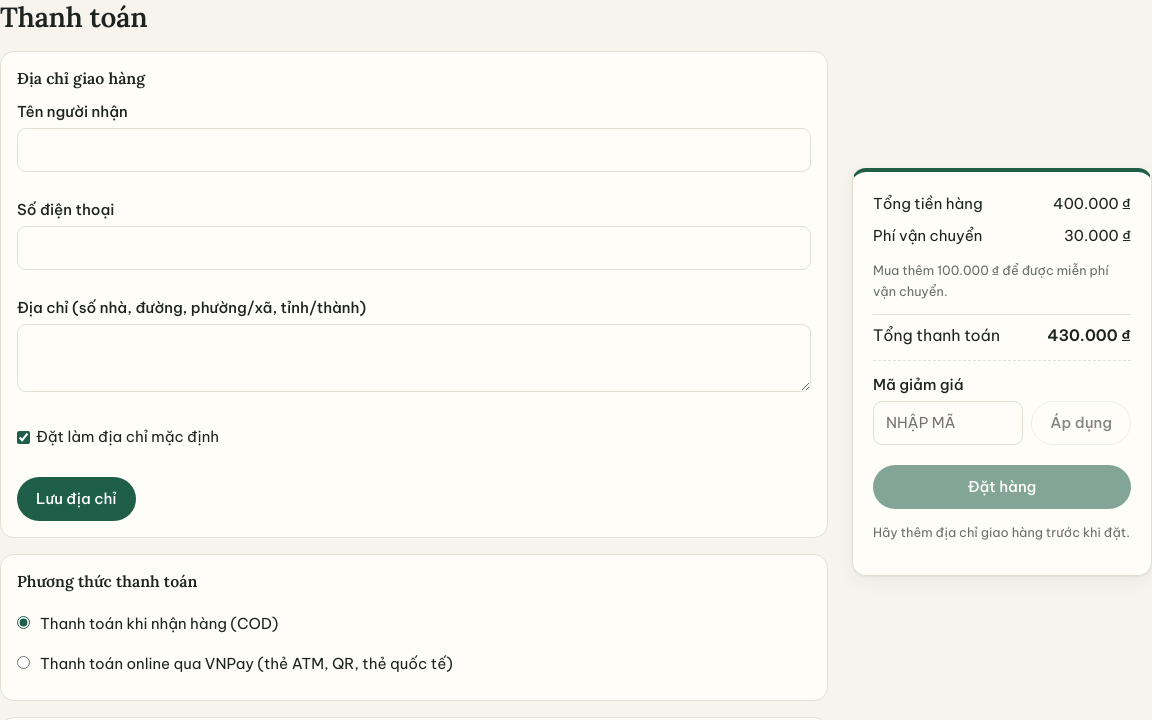
Test: CheckoutPage › chưa có địa chỉ thì thêm địa chỉ mới rồi mới đặt được
Expected: the text "Hãy thêm địa chỉ giao hàng trước khi đặt." is shown, [873,522,1131,543]
Expected: the button "Đặt hàng" is disabled, [873,466,1131,510]
Type "Mạnh" into the field labelled "Tên người nhận".
click(414, 150); type("Mạnh")  # box [17,128,811,172]
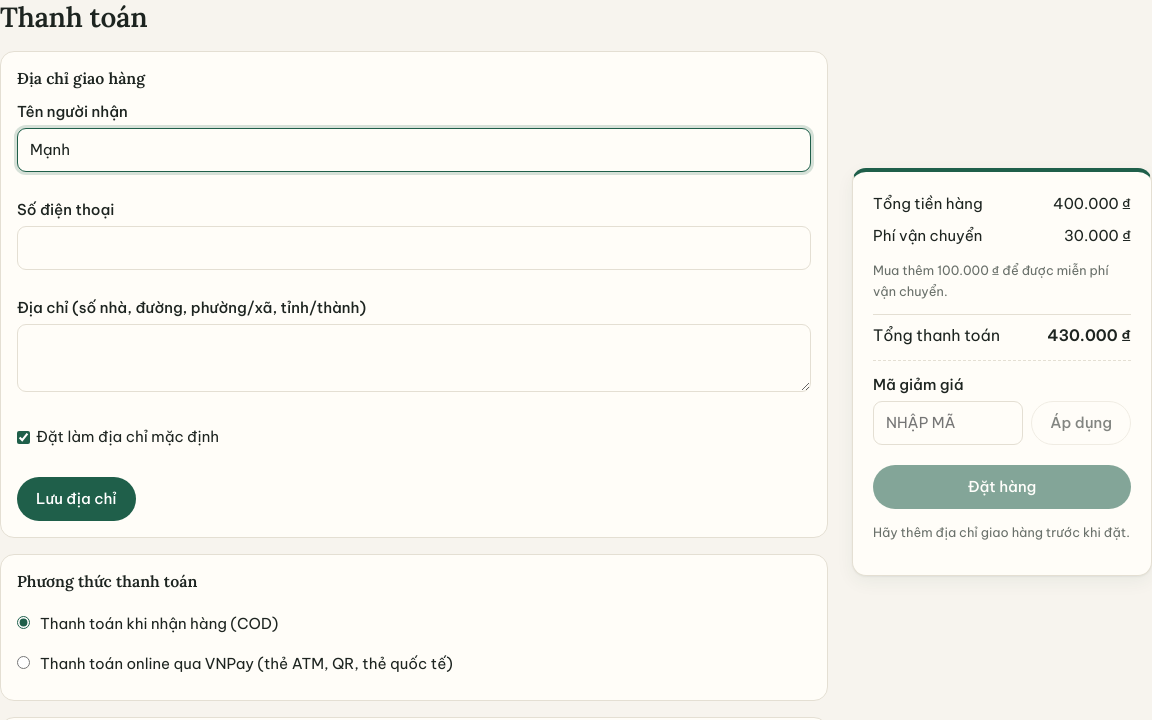
Type "090 123.4567" into the field labelled "Số điện thoại".
click(414, 248); type("090 123.4567")  # box [17,226,811,270]
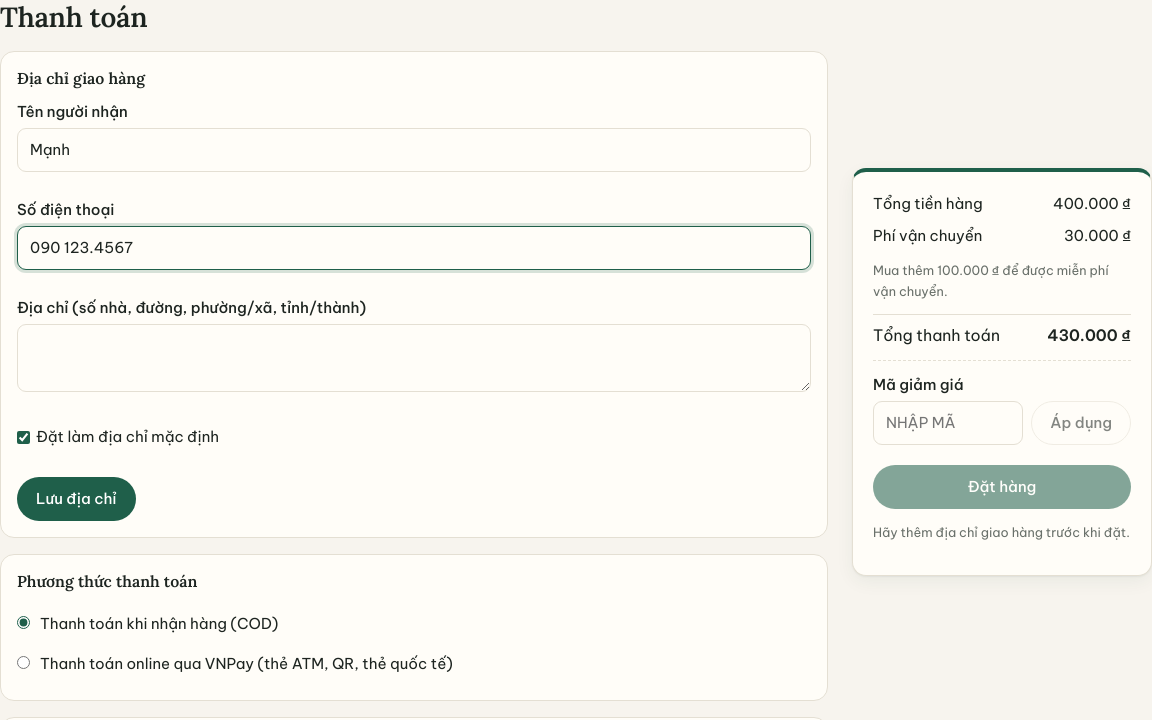
Type "Thủ Đức" into the text box labelled "Địa chỉ (số nhà, đường, phường/xã, tỉnh/thành)".
click(414, 358); type("Thủ Đức")  # box [17,324,811,392]
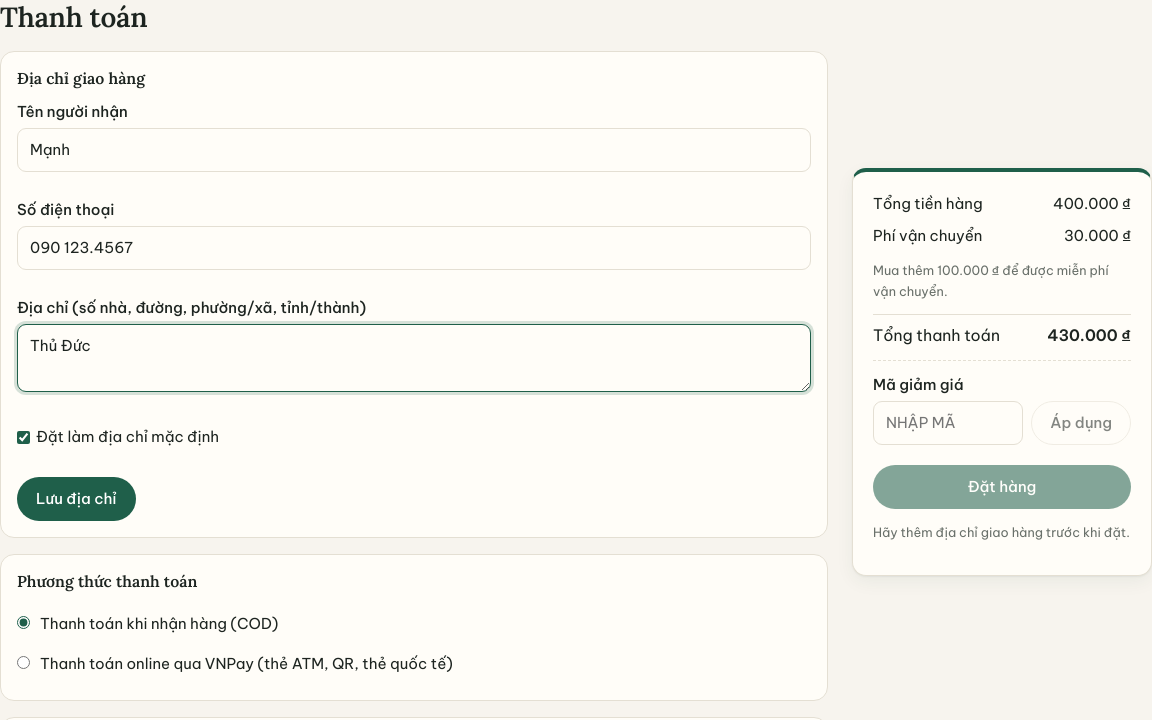
Click the button "Lưu địa chỉ".
click(76, 499)  # box [17,477,136,521]
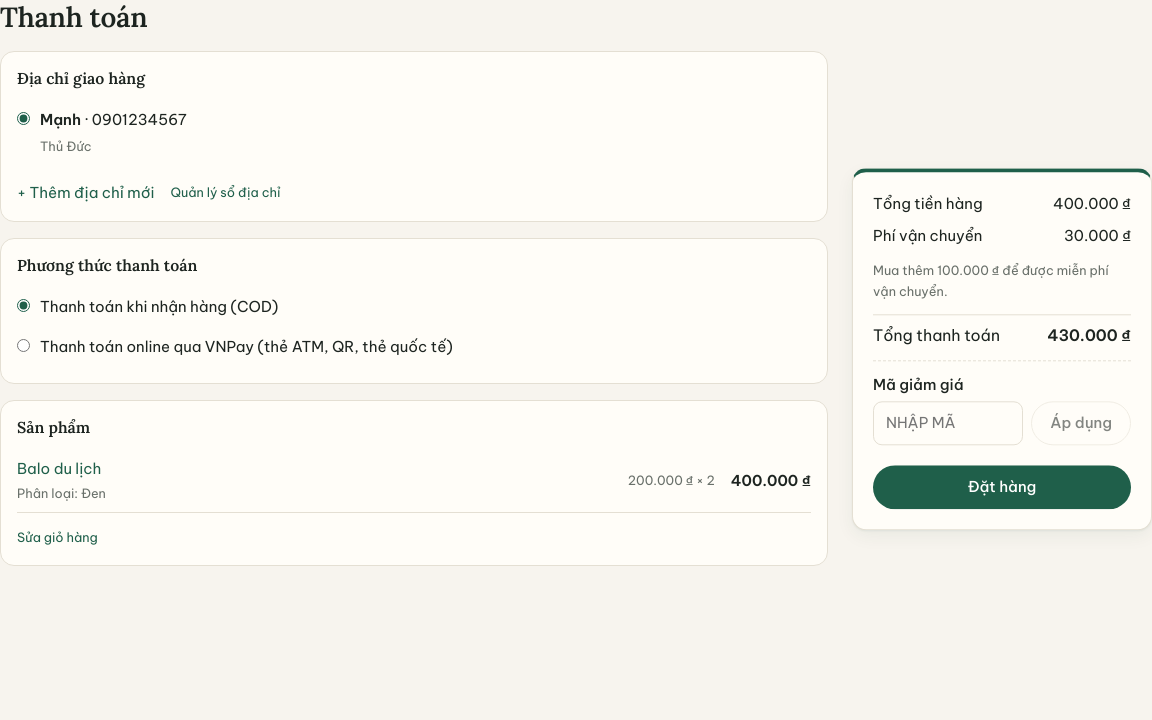
Expected: the button "Đặt hàng" is enabled, [873,466,1131,510]
